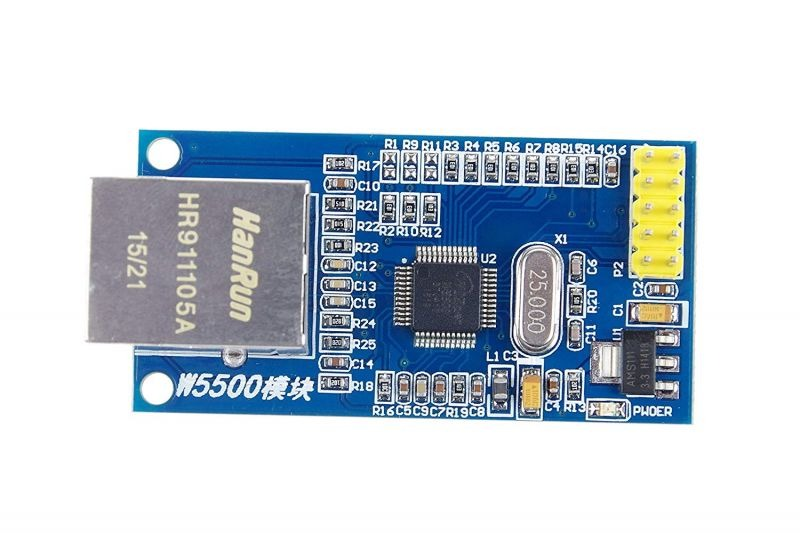Ethernet-W5500: (65, 109, 713, 460)
